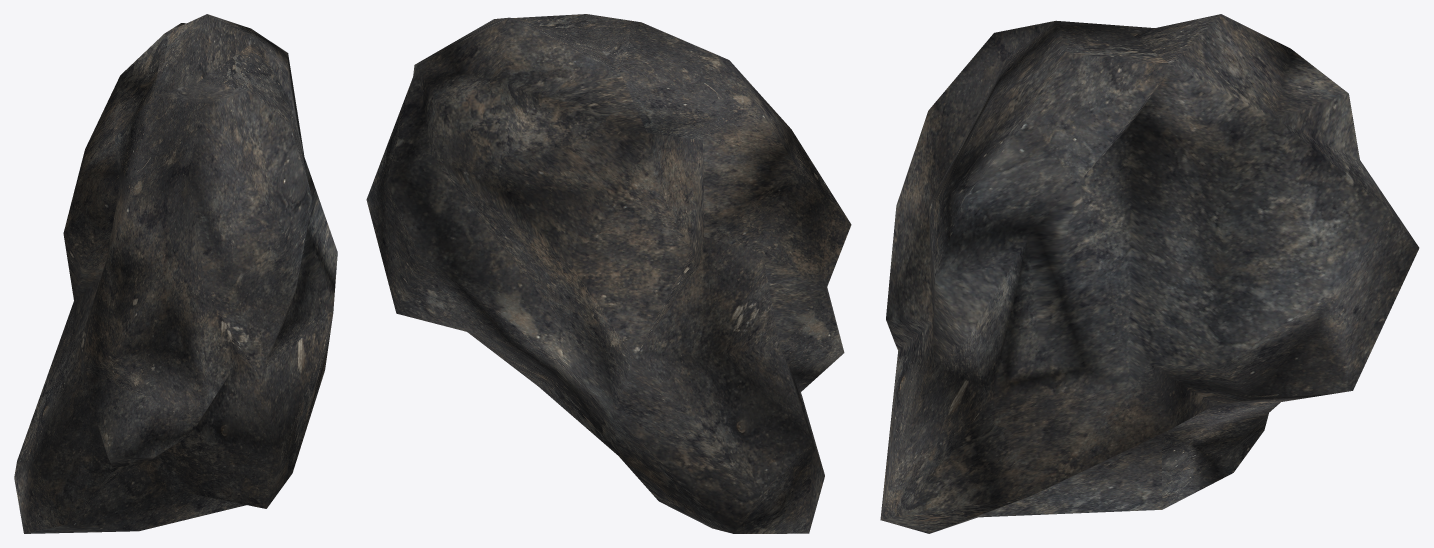
The model's file is asteroidC.FBX.
3 views of the same model, side by side, from view 1: azimuth 30°, elevation 25°; view 2: azimuth 150°, elevation 25°; view 3: azimuth 270°, elevation 25° (orthographic). The views are drawn at different scales.
Visible parts, largest first — view 1: asteroidLow; view 2: asteroidLow; view 3: asteroidLow.
Boxes of the visible parts, x1,y1,x2,y2 form: asteroidLow: (14,14,337,533); asteroidLow: (366,14,851,533); asteroidLow: (880,14,1419,533).
Size of the model in its own units: 26.96 by 34.43 by 27.5.
Materials: 1 (1 with a texture image).
